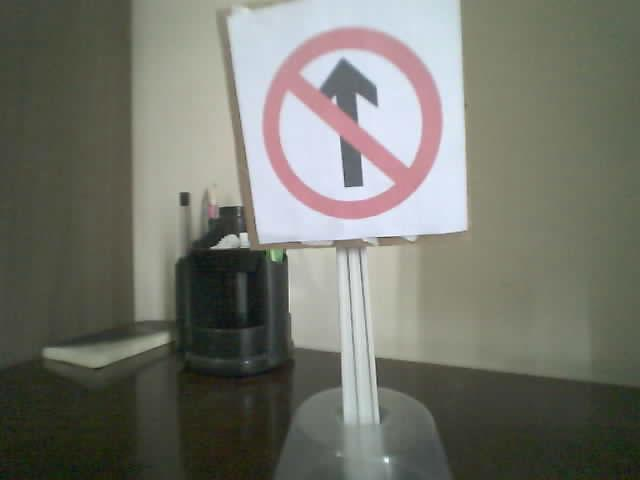R-3_sentido-proibido: (261, 26, 443, 218)
